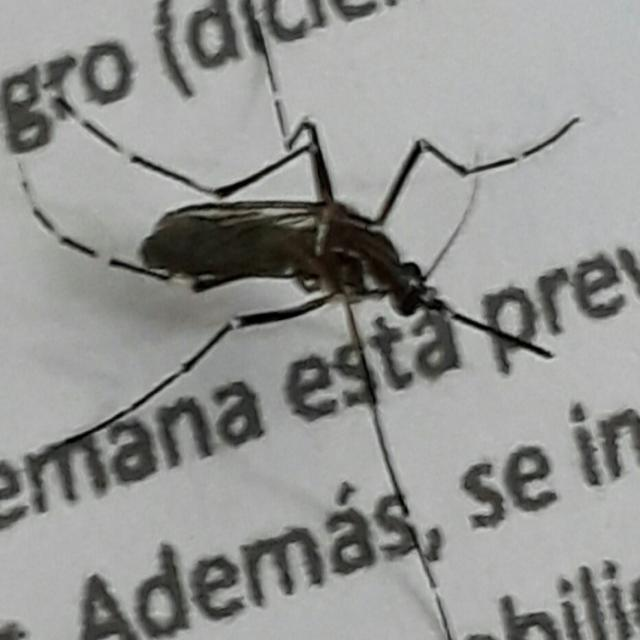aegypti: (0, 26, 607, 640)
